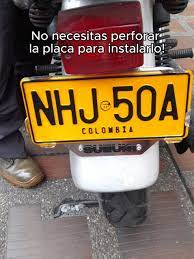placa_moto: (18, 71, 192, 146)
